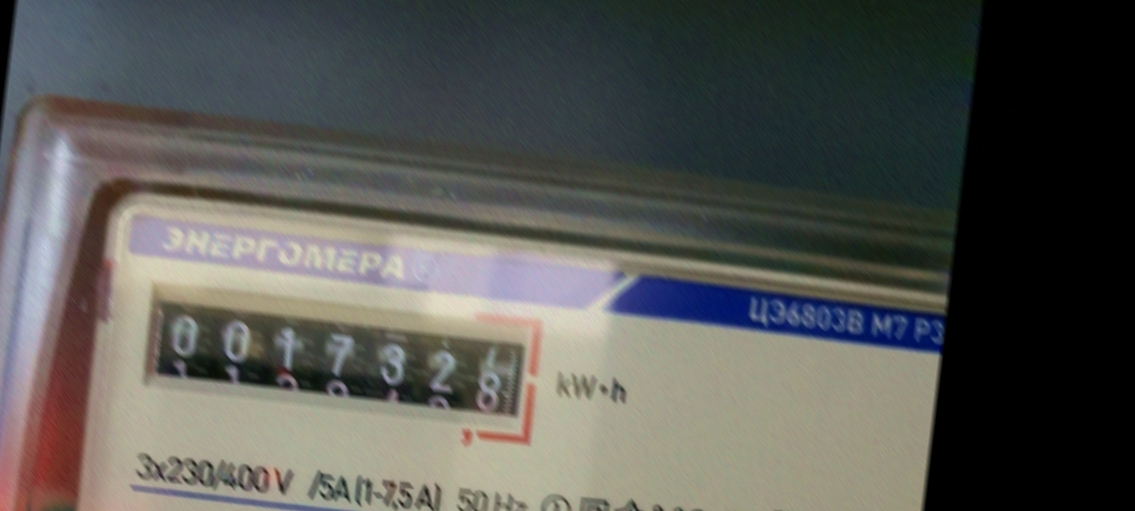0: (167, 311, 204, 359), (221, 315, 255, 364)
1: (275, 323, 301, 371)
2: (426, 347, 460, 394)
3: (377, 340, 409, 386)
7: (324, 330, 356, 379)
8: (473, 368, 503, 413)
screen: (130, 274, 552, 450)
